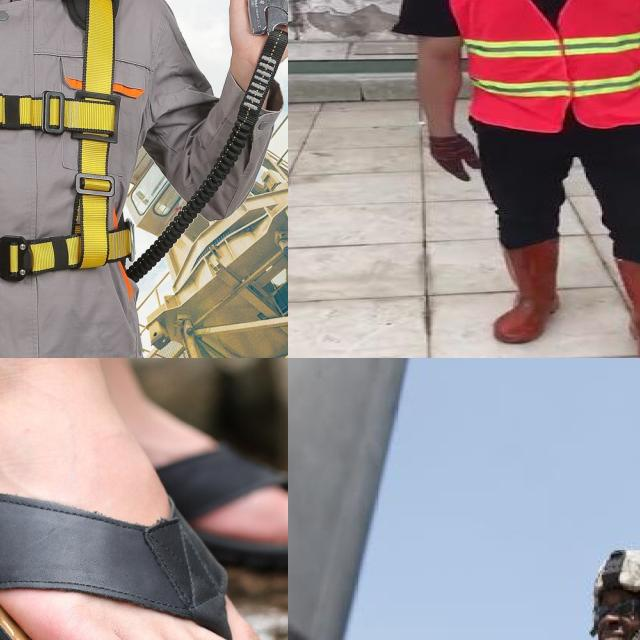Harness: (0, 0, 146, 284), (226, 0, 288, 72)
Sandals: (0, 358, 288, 640)
boots: (495, 239, 561, 343), (609, 256, 640, 358)
face_nomask: (593, 592, 639, 640)
glasses: (592, 598, 638, 624)
hand_glove: (424, 133, 480, 181)
head_helmet: (585, 538, 640, 597)
person: (391, 0, 640, 358), (515, 541, 640, 640)
vest: (440, 0, 640, 130)
